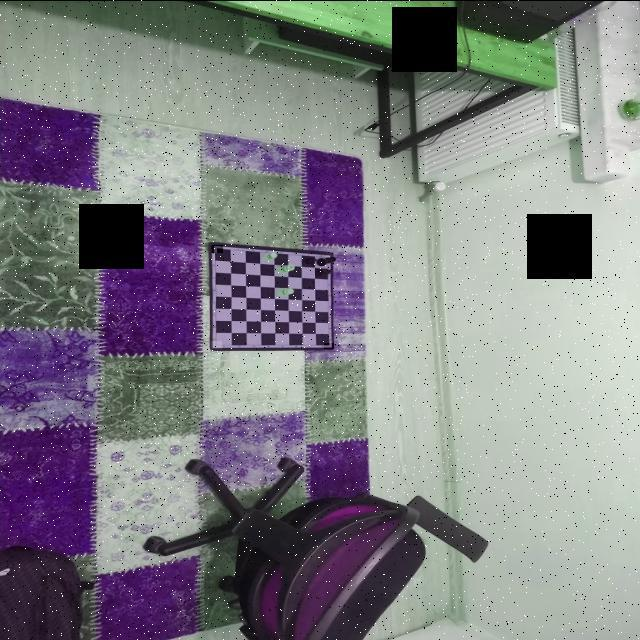chess-table-corners: (210, 244, 222, 252), (211, 341, 222, 348), (324, 342, 334, 348), (326, 252, 332, 256)
